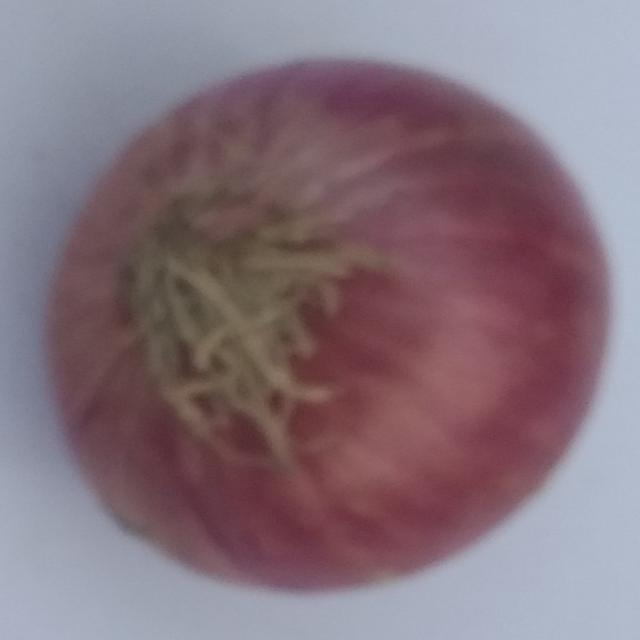onion: (38, 50, 622, 603)
